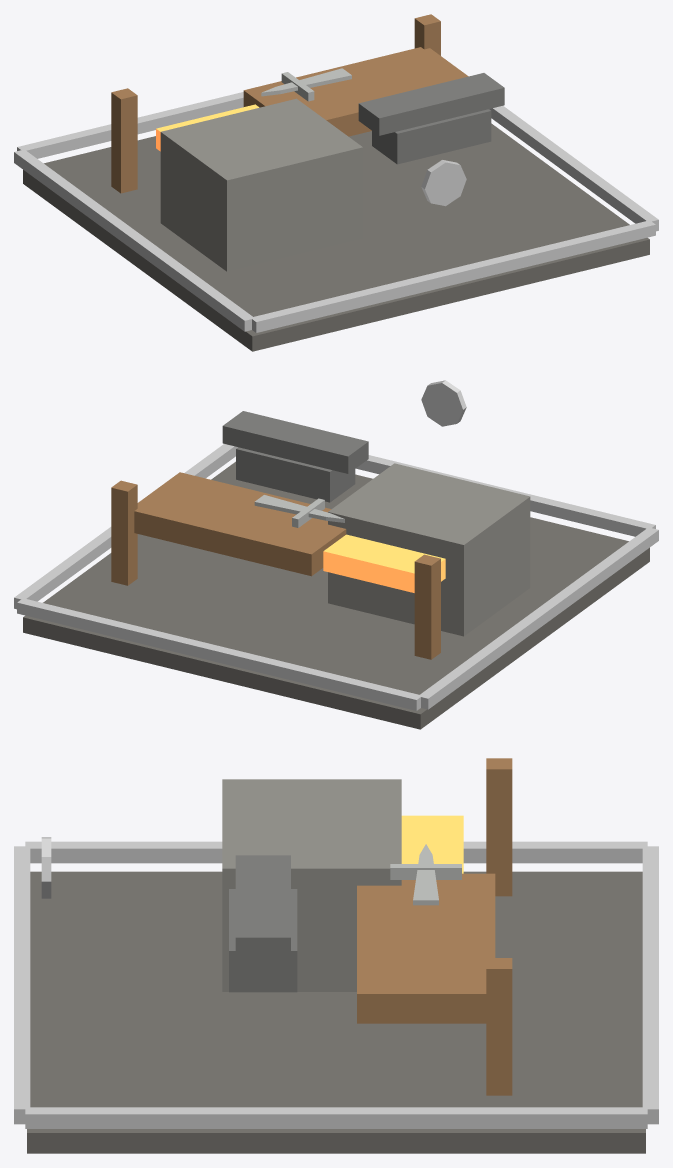
Rendered from t1_weapon_smith.glb.
The picture shows the model from 3 angles, top to bottom: view 1: azimuth 30°, elevation 25°; view 2: azimuth 150°, elevation 25°; view 3: azimuth 270°, elevation 25°; orthographic projection. The views are drawn at different scales.
Parts seen in each view (by area): view 1: FootprintBase, ForgeBody, WorkTable, TierFrontTrim, AnvilTop, TierLeftTrim, AnvilBody, TierRightTrim, TierBackTrim, RackPostL, TierEmblem, RackPostR (+2 smaller); view 2: FootprintBase, ForgeBody, WorkTable, TierBackTrim, AnvilTop, TierLeftTrim, ForgeGlow, AnvilBody, TierFrontTrim, TierRightTrim, RackPostL, RackPostR (+2 smaller); view 3: FootprintBase, ForgeBody, WorkTable, TierRightTrim, TierLeftTrim, AnvilTop, TierBackTrim, TierFrontTrim, RackPostR, RackPostL, AnvilBody, ForgeGlow (+3 smaller).
Boxes of the visible parts, x1,y1,x2,y2 form: FootprintBase: (23,123,649,351); ForgeBody: (160,98,362,271); WorkTable: (243,47,468,136); TierFrontTrim: (252,220,655,332); AnvilTop: (358,73,504,135); TierLeftTrim: (14,149,254,331); AnvilBody: (372,109,491,164); TierRightTrim: (489,106,658,231); TierBackTrim: (17,92,243,158); RackPostL: (111,88,137,193); TierEmblem: (421,160,466,206); RackPostR: (414,14,440,55); FootprintBase: (23,461,649,729); ForgeBody: (328,463,530,636); WorkTable: (134,472,346,576); TierBackTrim: (17,598,420,710); AnvilTop: (222,411,368,473); TierLeftTrim: (418,527,658,709); ForgeGlow: (323,534,445,592); AnvilBody: (236,447,355,502); TierFrontTrim: (356,455,655,536); TierRightTrim: (14,444,237,609); RackPostL: (414,554,440,659); RackPostR: (111,480,137,585); FootprintBase: (27,871,645,1153); ForgeBody: (222,779,401,991); WorkTable: (357,873,495,1023); TierRightTrim: (25,1107,647,1128); TierLeftTrim: (25,841,647,863); AnvilTop: (235,855,290,961); TierBackTrim: (642,846,658,1124); TierFrontTrim: (14,846,30,1124); RackPostR: (486,958,512,1095); RackPostL: (486,758,512,896); AnvilBody: (229,889,297,992); ForgeGlow: (401,815,463,873).
Bounding box in the file's own units: 3.96 × 1.25 × 3.96.
